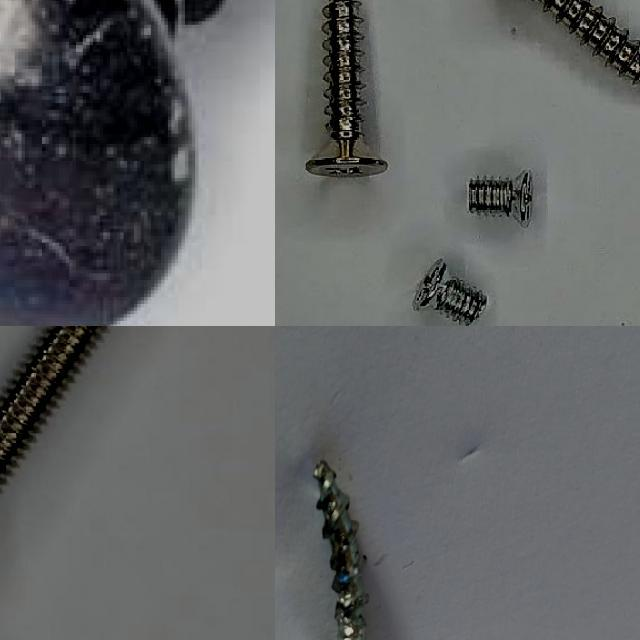Screw: (0, 0, 236, 326), (0, 326, 100, 475), (306, 0, 388, 176), (314, 460, 369, 640), (537, 0, 640, 81), (414, 259, 487, 325), (467, 170, 534, 227)
